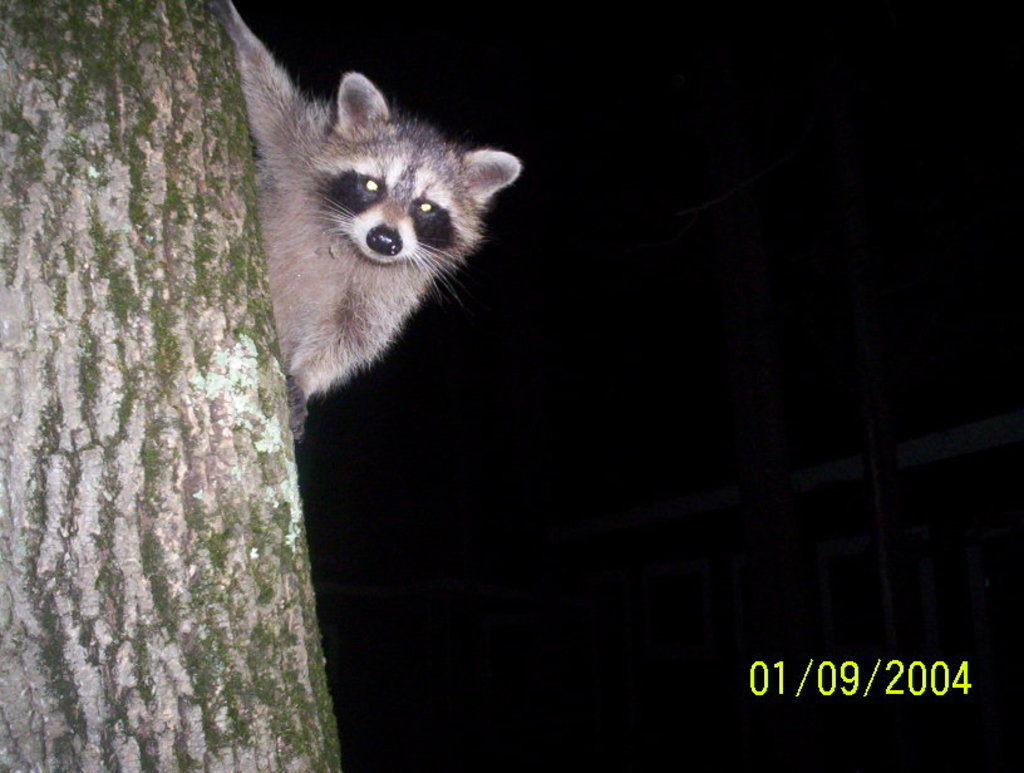raccoon: (232, 1, 523, 447)
